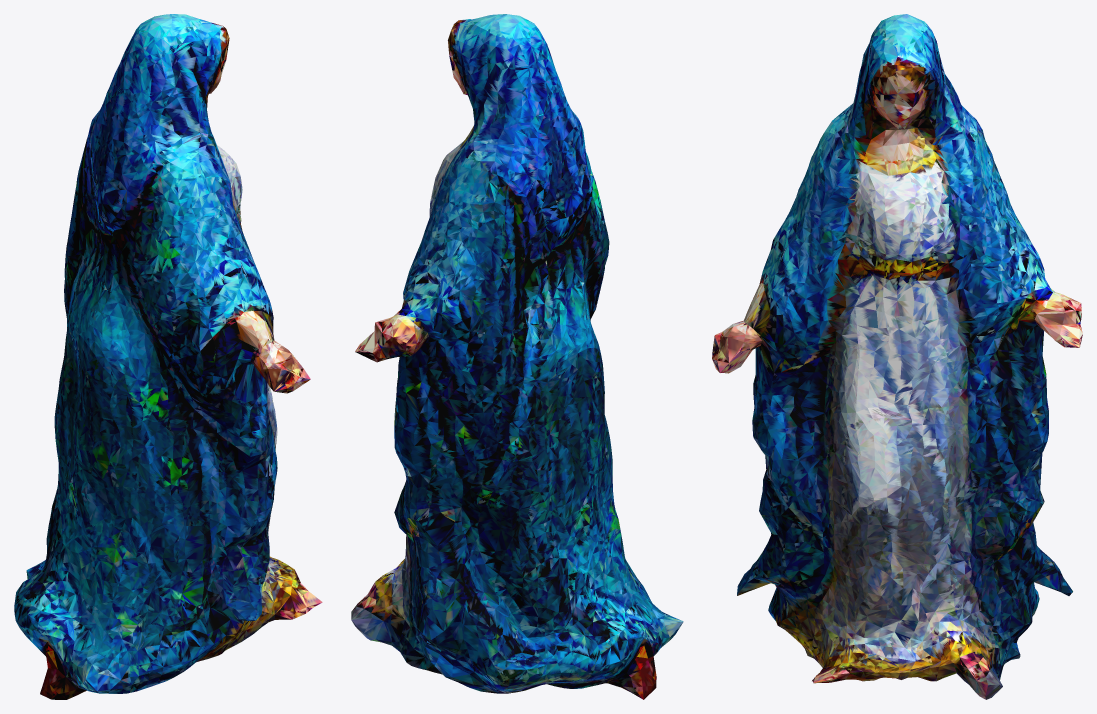
Rendered from virgin_mary-canny.glb.
3 views of the same model, side by side, from view 1: azimuth 30°, elevation 25°; view 2: azimuth 150°, elevation 25°; view 3: azimuth 270°, elevation 25° (orthographic). The views are drawn at different scales.
Parts seen in each view (by area): view 1: extracted_mesh; view 2: extracted_mesh; view 3: extracted_mesh.
Part boxes in pixels (<box>): extracted_mesh: <box>14,14,322,699</box>; extracted_mesh: <box>351,14,683,699</box>; extracted_mesh: <box>712,14,1082,699</box>.
Size of the model in its own units: 0.4378 by 1.09 by 0.5452.
Materials: 1 (1 with a texture image).
